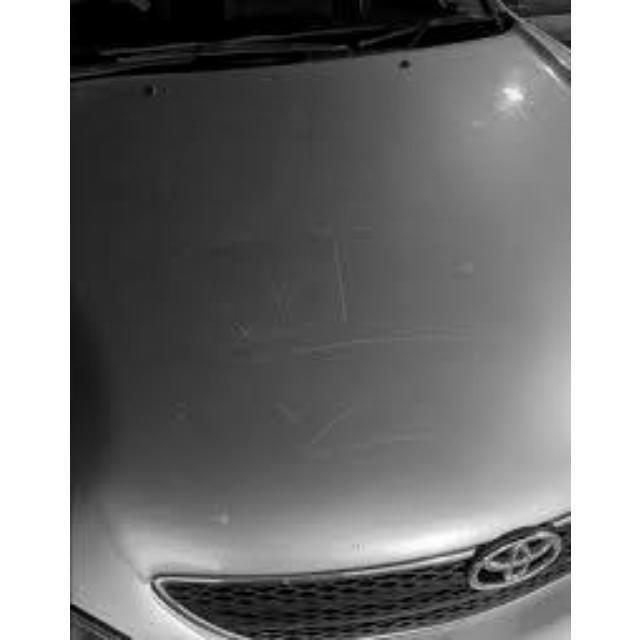bonnet-dent: (69, 139, 557, 620)
